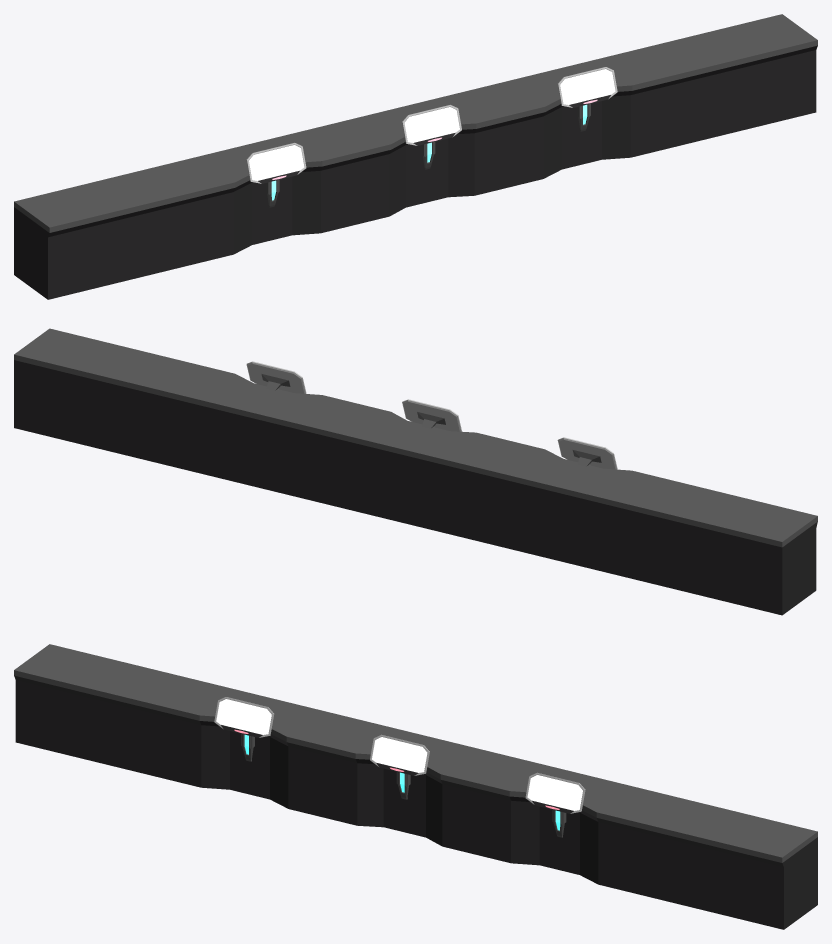
File: crafting_desk.fbx
3 renders of one model, top to bottom at view 1: azimuth 30°, elevation 25°; view 2: azimuth 150°, elevation 25°; view 3: azimuth 330°, elevation 25°, orthographic.
Parts seen in each view (by area): view 1: desk; view 2: desk; view 3: desk.
Part boxes in pixels (x1,y1,x2,y2): desk: [14, 14, 817, 299]; desk: [14, 328, 817, 615]; desk: [14, 644, 817, 929].
Size of the model in its own units: 2489 by 292 by 208.
